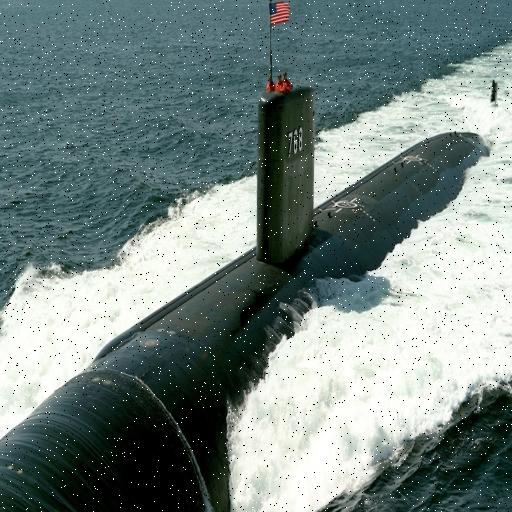submarine: (1, 1, 504, 512)
